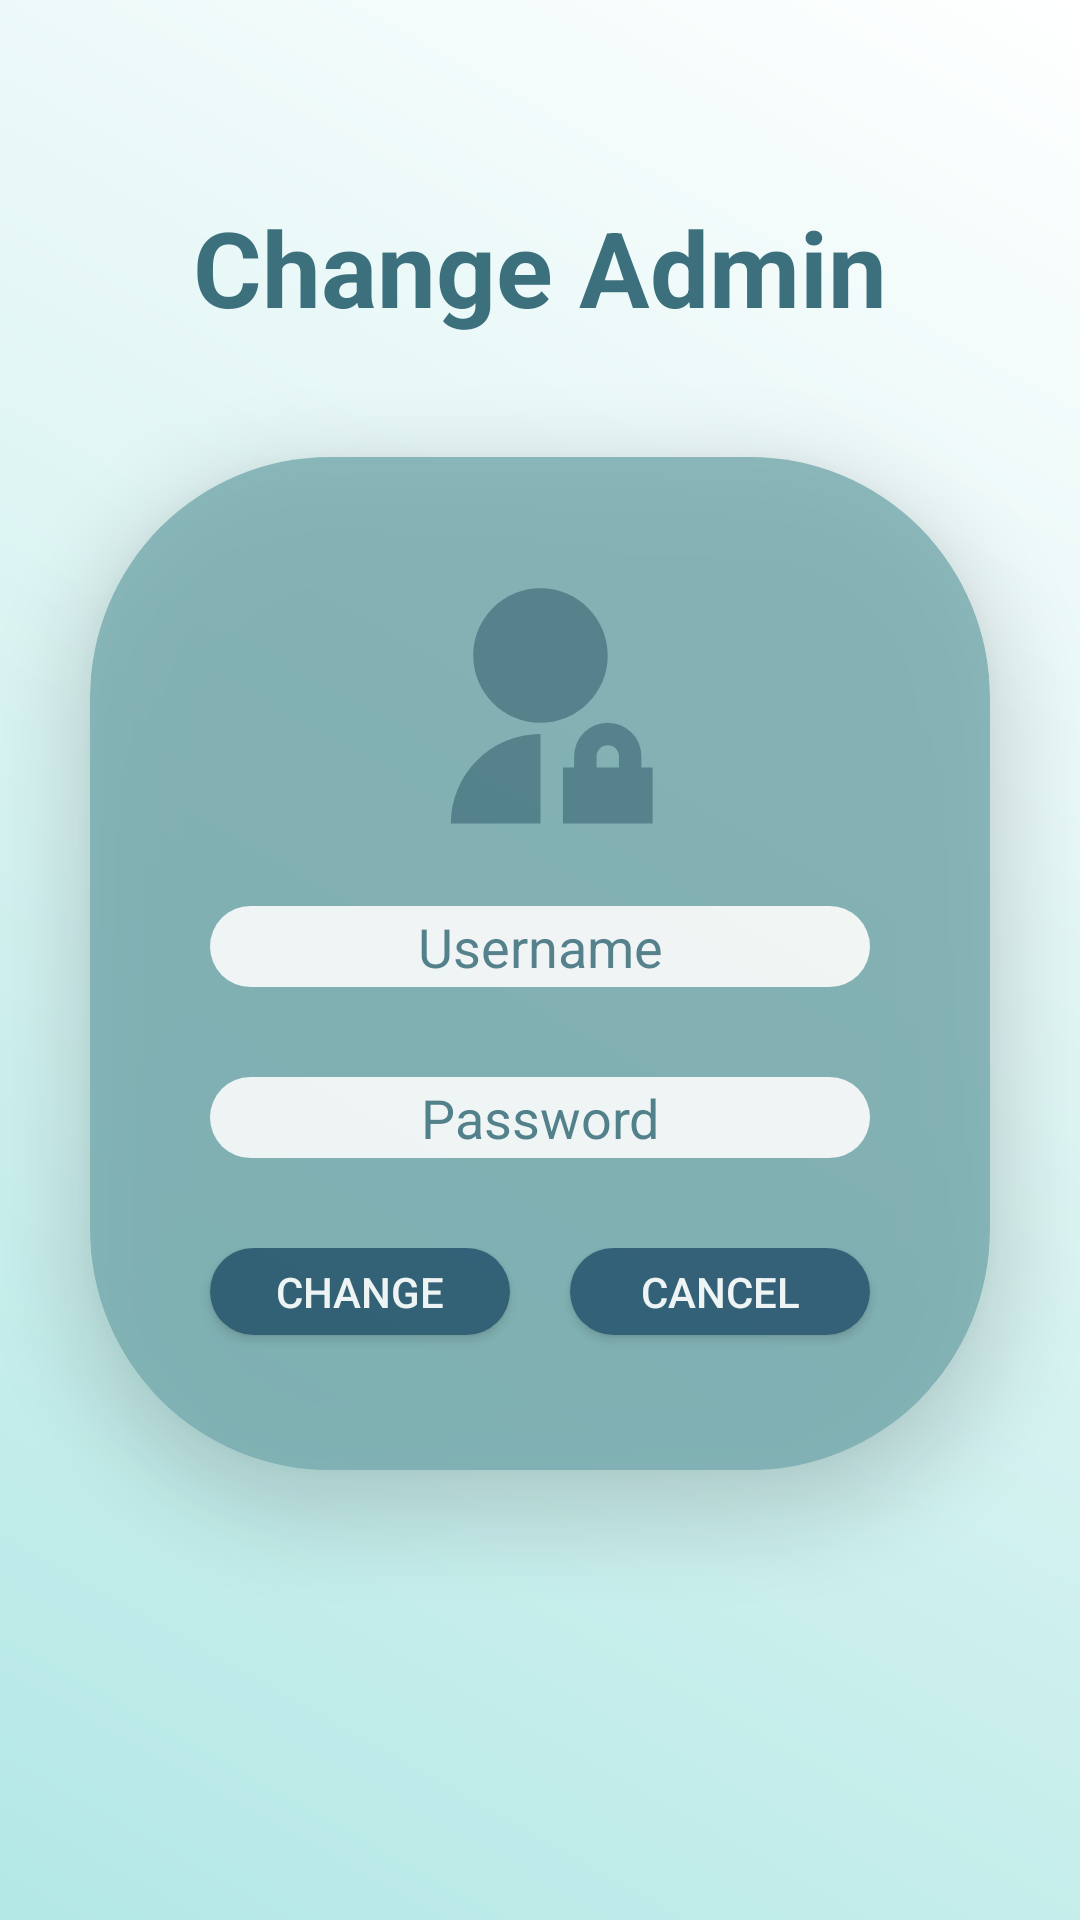

Screen size 1080*1920. Icon name, then its center in pixels as (x=x, y=y):
change admin: (x=552, y=706)
